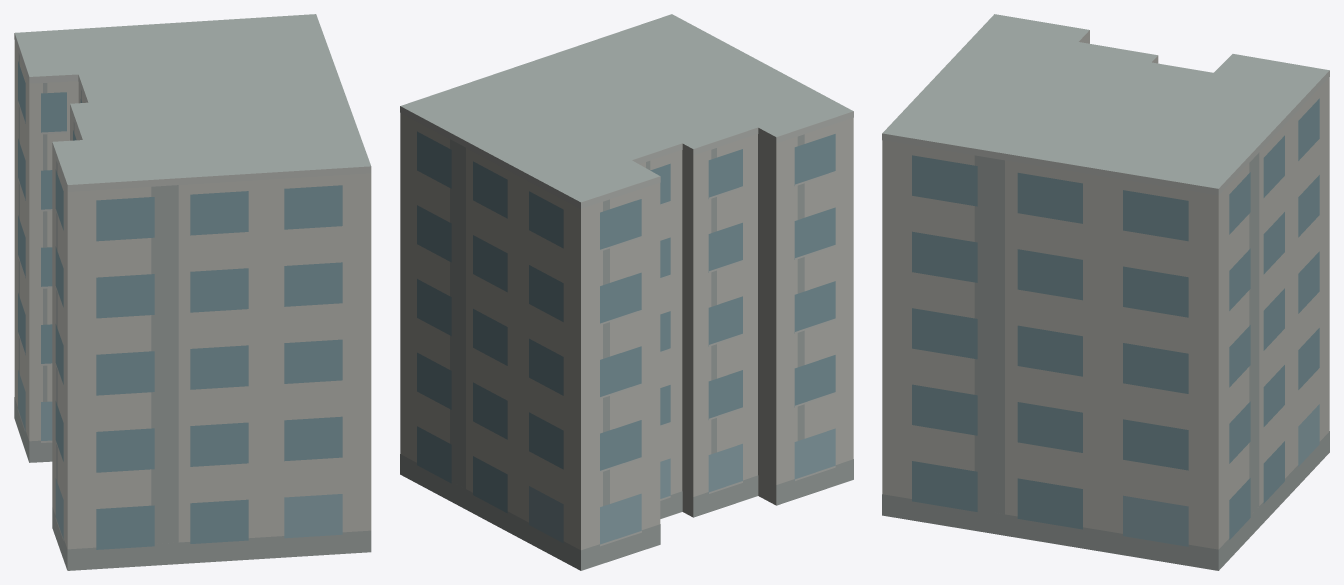
File: survey-upis-32498459.glb
3 views of the same model, side by side, from view 1: azimuth 30°, elevation 25°; view 2: azimuth 150°, elevation 25°; view 3: azimuth 270°, elevation 25° (orthographic). The views are drawn at different scales.
Visible parts, largest first — view 1: survey-upis-32498459.tmp; view 2: survey-upis-32498459.tmp; view 3: survey-upis-32498459.tmp.
Part boxes in pixels (x1,y1,x2,y2): survey-upis-32498459.tmp: (14, 14, 371, 570); survey-upis-32498459.tmp: (400, 14, 853, 570); survey-upis-32498459.tmp: (882, 14, 1329, 570).
Bounding box in the file's own units: 13.55 × 13.8 × 14.66.
